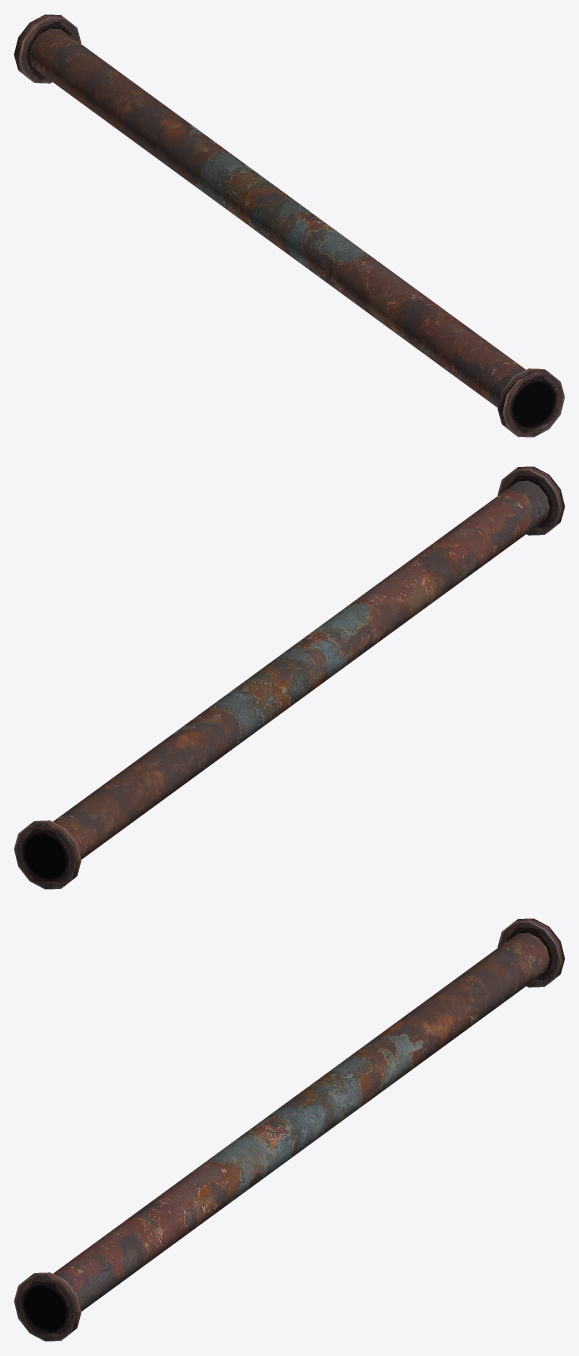
Rendered from pipe01_300cm.fbx.
The picture shows the model from 3 angles, top to bottom: view 1: azimuth 30°, elevation 25°; view 2: azimuth 150°, elevation 25°; view 3: azimuth 330°, elevation 25°; orthographic projection.
Parts seen in each view (by area): view 1: pipe01_300cm; view 2: pipe01_300cm; view 3: pipe01_300cm.
Boxes of the visible parts, bbox=[...] form: pipe01_300cm: bbox=[14, 14, 564, 437]; pipe01_300cm: bbox=[14, 466, 564, 889]; pipe01_300cm: bbox=[14, 918, 564, 1341].
Bounding box in the file's own units: 22.2 × 22.2 × 300.
